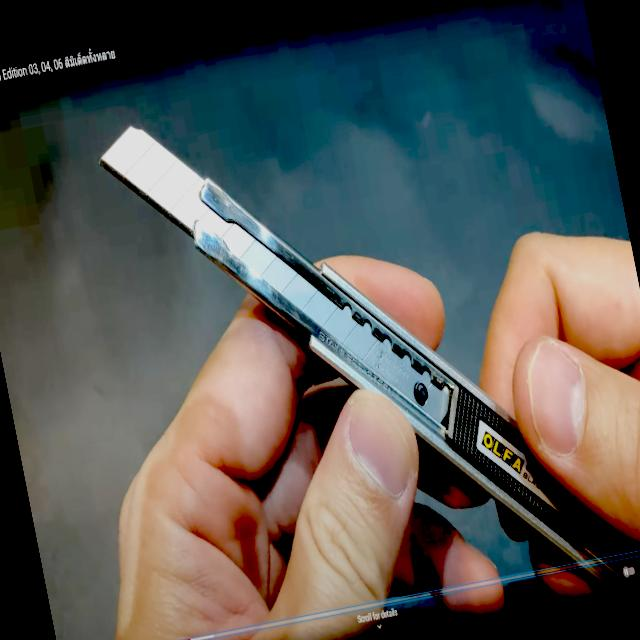cutter: (72, 0, 640, 606)
